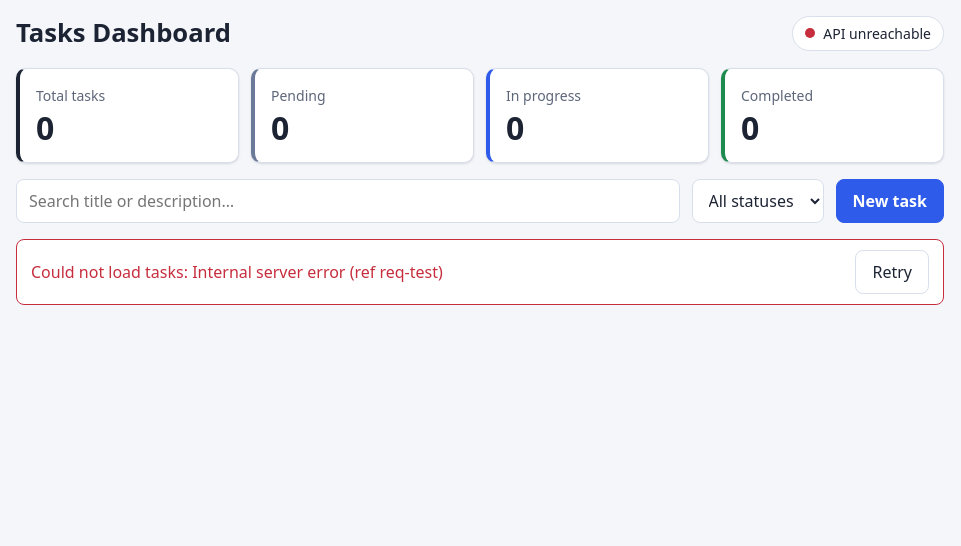
Test: error handling › shows a load error with a working Retry
Expected: the message "Could not load tasks: Internal server error (ref req-test) Retry" is shown, x1=16 y1=239 x2=944 y2=305
Click the button "Retry" at (892, 272), box x1=856 y1=250 x2=929 y2=294
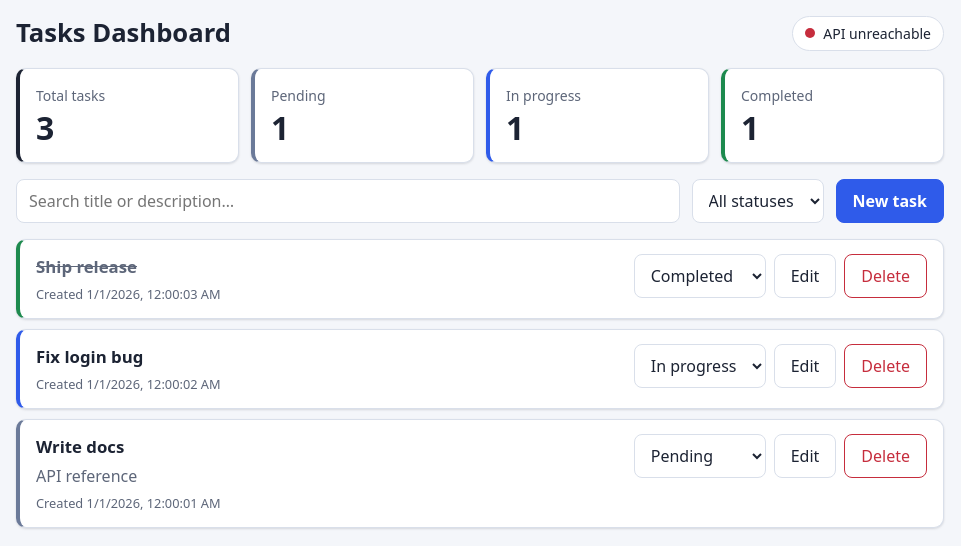
Expected: the heading "Write docs" is shown, x1=36 y1=435 x2=124 y2=458
